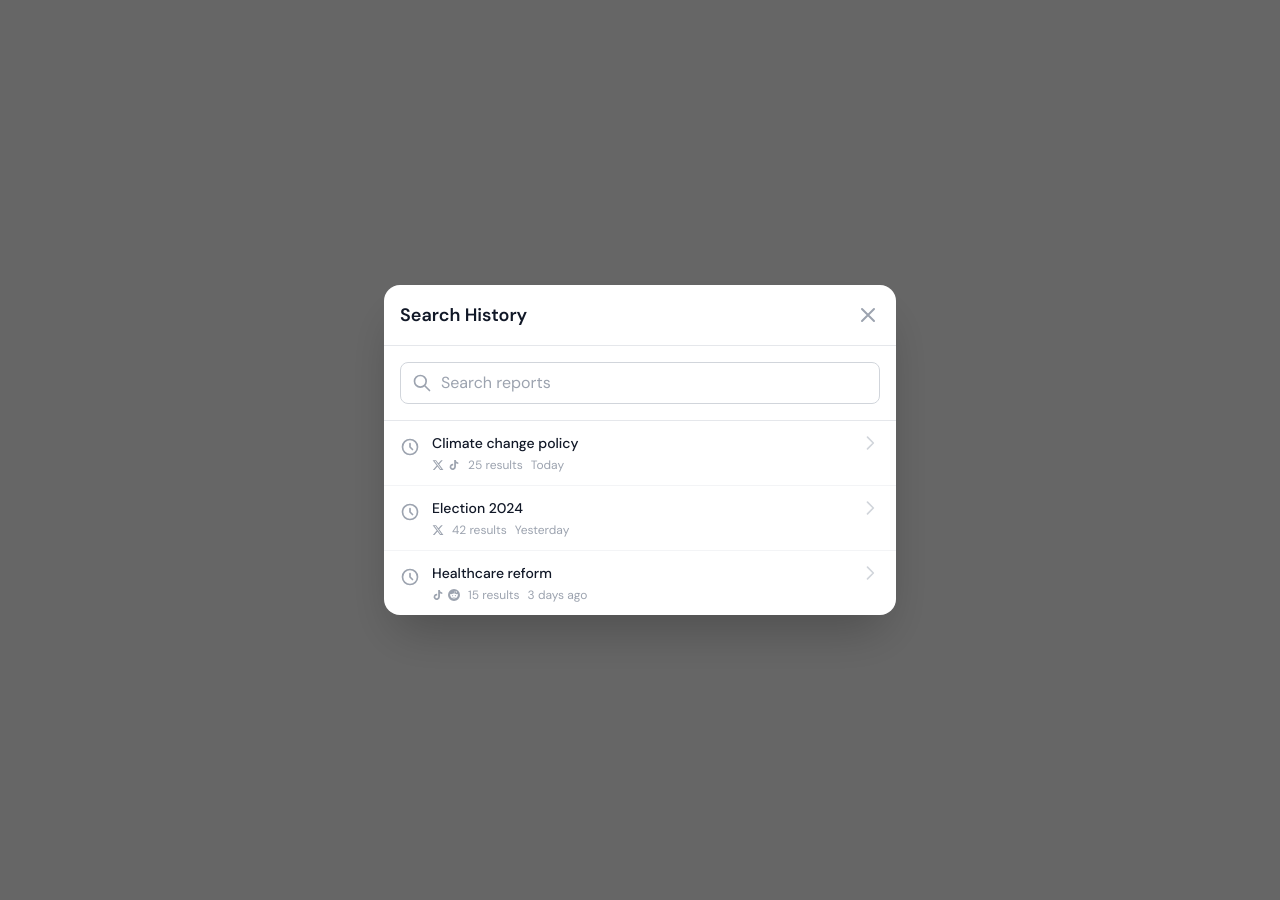
Test: SearchHistoryModal › Filtering › shows no matches message when filter has no results
Expected: the list with test id "search-history-list" is shown, [384,421,896,615]
# Filter by non-existent term
Type "nonexistent" into the field with test id "search-history-filter-input".
click(640, 383); type("nonexistent")  # box [400,362,880,404]
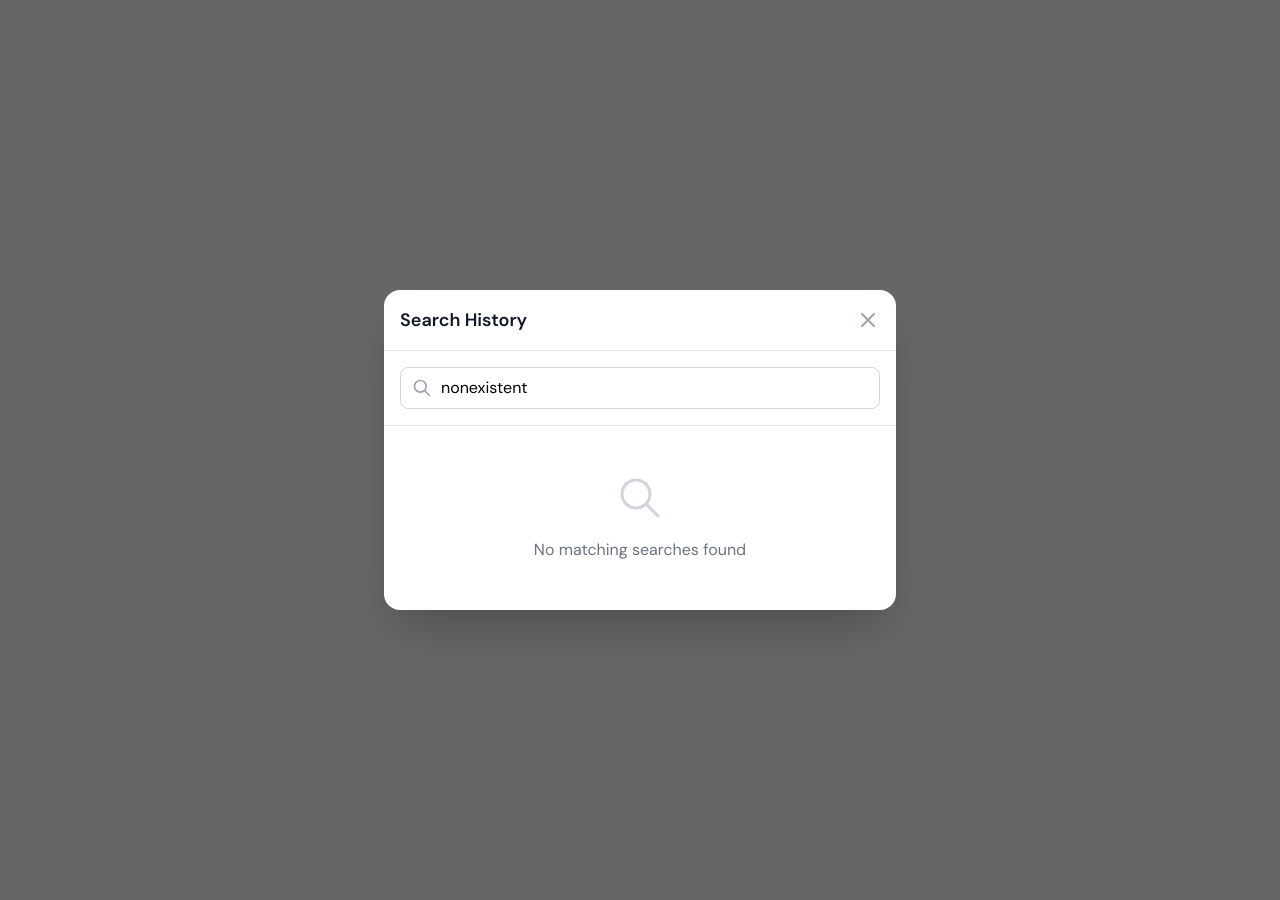
Now the text "No matching searches found" is shown, box [534,538,746,562]
